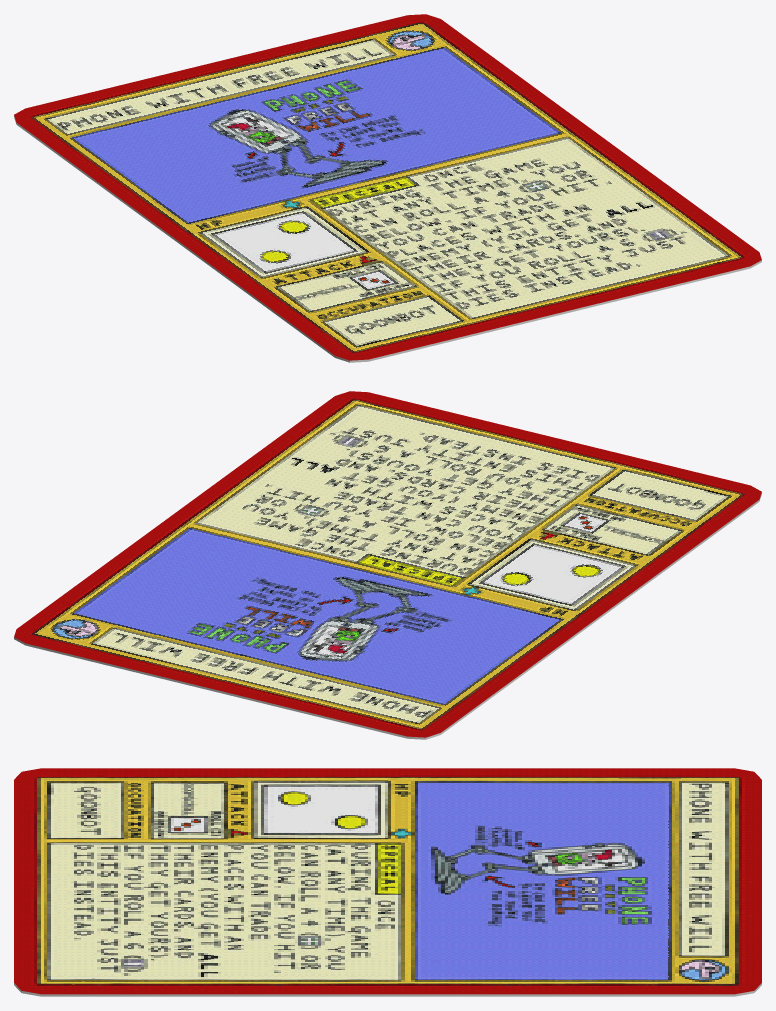
Rendered from card.glb.
3 renders of one model, top to bottom at view 1: azimuth 30°, elevation 25°; view 2: azimuth 150°, elevation 25°; view 3: azimuth 270°, elevation 25°, orthographic. The views are drawn at different scales.
Parts seen in each view (by area): view 1: goosklerf_freewill; view 2: goosklerf_freewill; view 3: goosklerf_freewill.
Part boxes in pixels (left/top/right/bottom): goosklerf_freewill: left=14, top=14, right=761, bottom=362; goosklerf_freewill: left=14, top=391, right=761, bottom=739; goosklerf_freewill: left=14, top=768, right=761, bottom=996.
Size of the model in its own units: 0.0635 by 0.00031 by 0.0889.
Materials: 3 (2 with a texture image).
